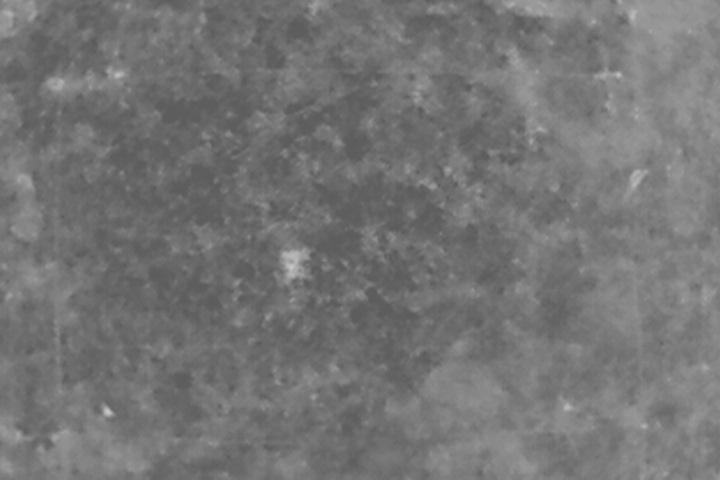landmine: (282, 250, 308, 281)
